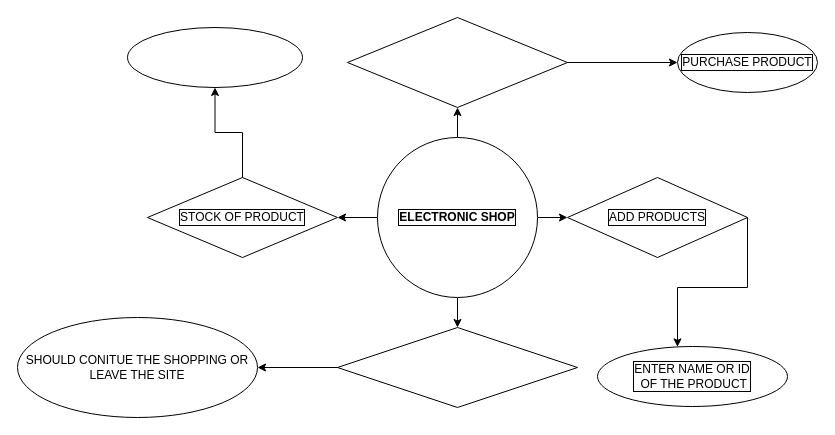
Image size: 835x435. Some labels were removed from this diagram. Here are the shapes that lost their labels. From the top down, the box of each, then its label:
(126, 26, 302, 88): DISPLAY PRODUCT DETAILS
(346, 16, 568, 108): DISPLAY PRODUCTS
(336, 326, 578, 408): DELETE PRODUCT
